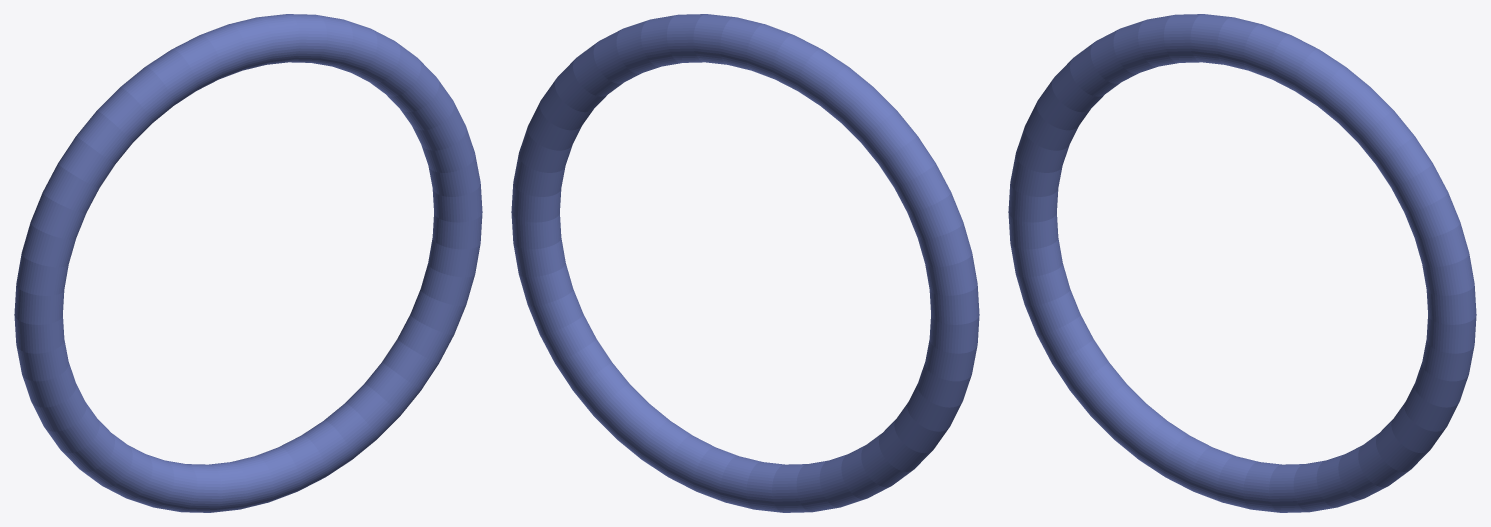
3 views of the same model, side by side, from view 1: azimuth 30°, elevation 25°; view 2: azimuth 150°, elevation 25°; view 3: azimuth 330°, elevation 25° (orthographic).
Parts seen in each view (by area): view 1: world; view 2: world; view 3: world.
Boxes of the visible parts, x1,y1,x2,y2 form: world: (14,14,482,512); world: (511,14,979,512); world: (1008,14,1476,512).
Size of the model in its own units: 22 by 21.96 by 2.
